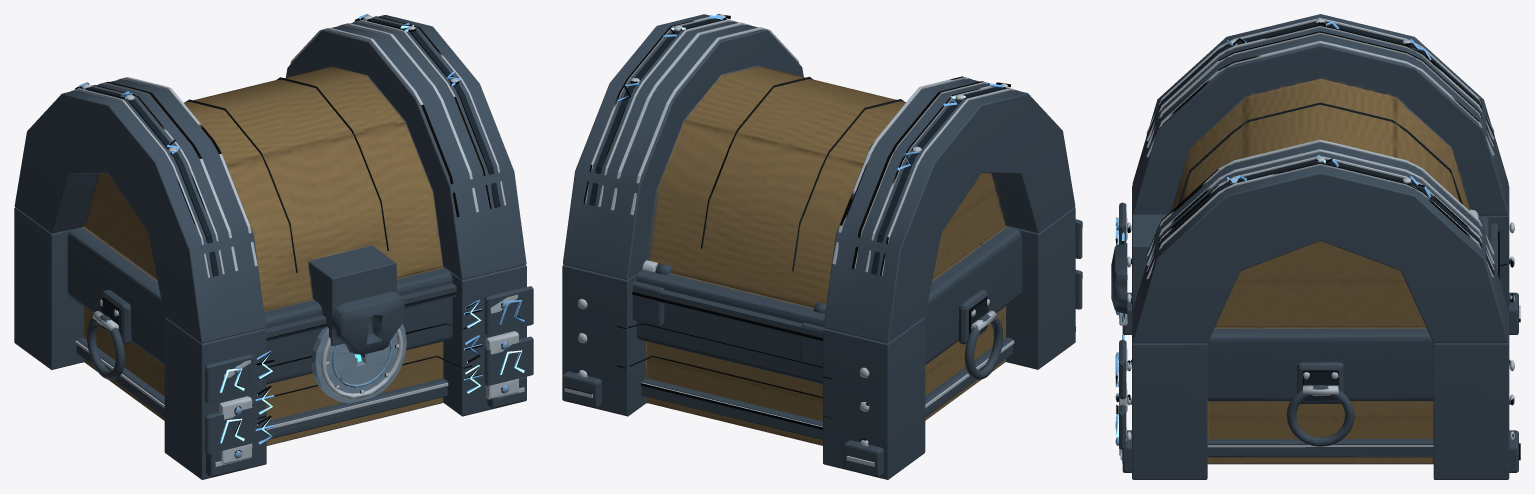
Rendered from rune-sentinel.glb.
3 views of the same model, side by side, from view 1: azimuth 30°, elevation 25°; view 2: azimuth 150°, elevation 25°; view 3: azimuth 270°, elevation 25° (orthographic).
Parts seen in each view (by area): view 1: LidShell, Body; view 2: LidShell, Body; view 3: LidShell, Body.
Boxes of the visible parts, box(x1,y1,x2,y2) form: LidShell: box(14, 14, 526, 354); Body: box(14, 207, 533, 479); LidShell: box(563, 14, 1075, 343); Body: box(562, 207, 1082, 479); LidShell: box(1111, 14, 1508, 343); Body: box(1115, 185, 1520, 479).
Bounding box in the file's own units: 2 × 1.76 × 2.09.
1 material, 1 textured.
